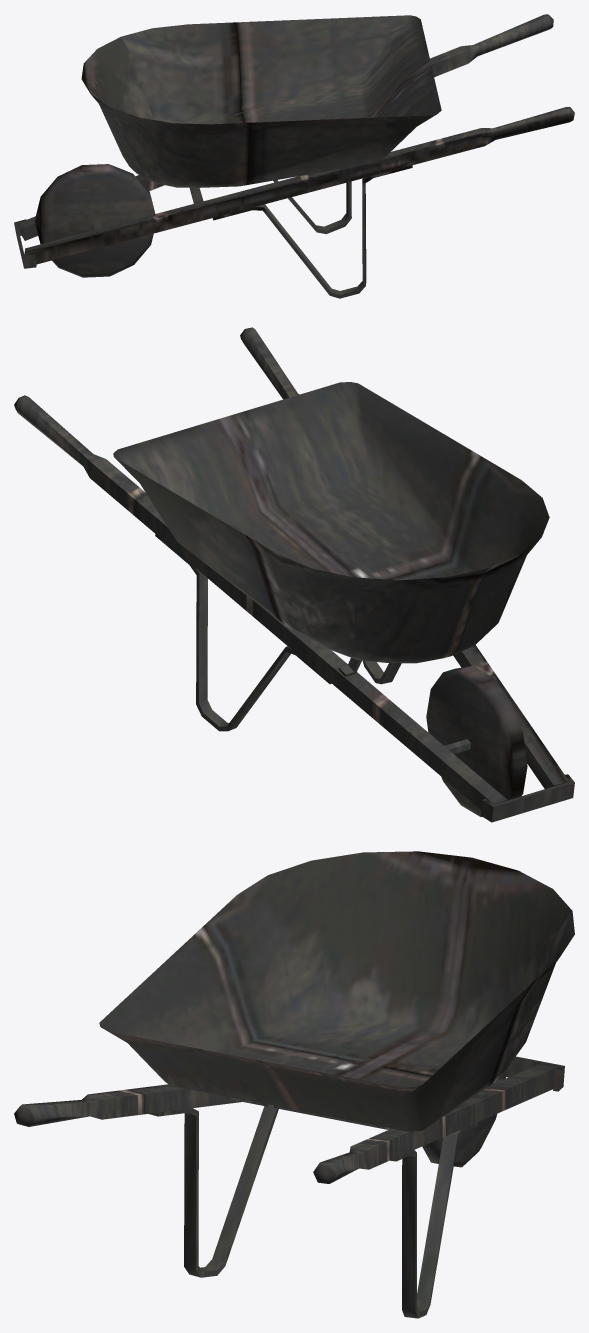
Rendered from Carreta.fbx.
3 views of the same model, one above another, from view 1: azimuth 30°, elevation 25°; view 2: azimuth 150°, elevation 25°; view 3: azimuth 270°, elevation 25° (orthographic). The views are drawn at different scales.
Parts seen in each view (by area): view 1: Carreta.001; view 2: Carreta.001; view 3: Carreta.001.
Part boxes in pixels (<box>): Carreta.001: <box>14,14,574,298</box>; Carreta.001: <box>14,327,574,822</box>; Carreta.001: <box>14,851,574,1318</box>.
Bounding box in the file's own units: 1.73 × 0.6668 × 1.16.
Materials: 1 (1 with a texture image).
